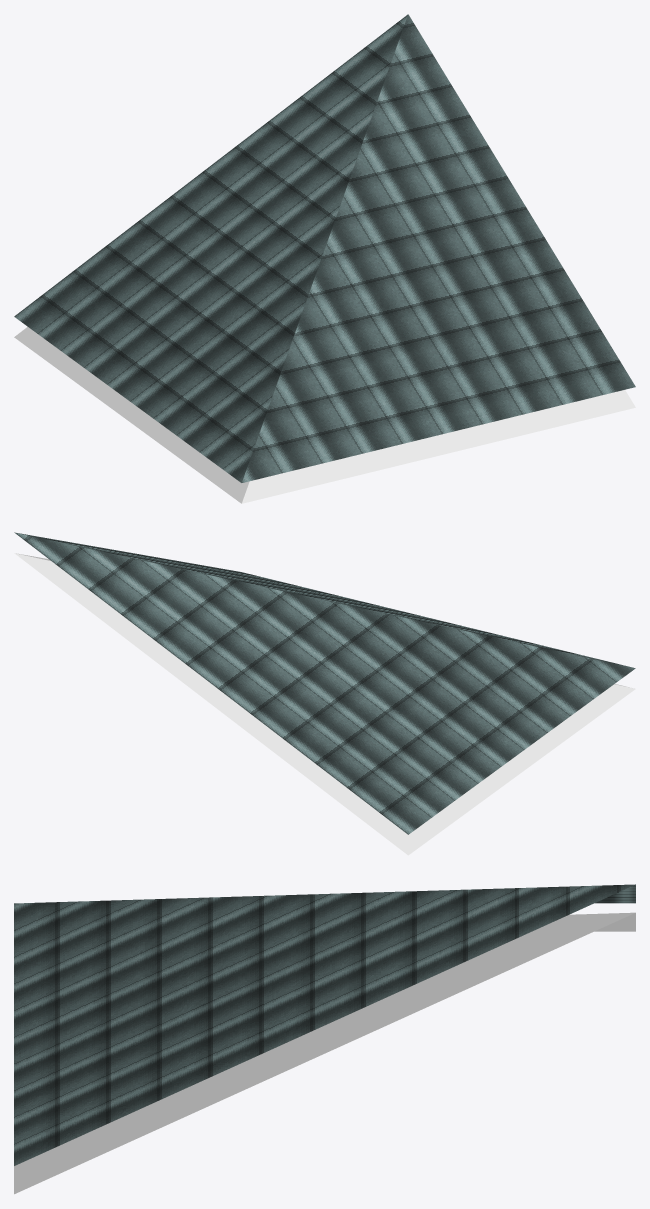
The model's file is roof_corner_mid_4x4.glb.
3 views of the same model, one above another, from view 1: azimuth 30°, elevation 25°; view 2: azimuth 150°, elevation 25°; view 3: azimuth 270°, elevation 25° (orthographic). The views are drawn at different scales.
Parts seen in each view (by area): view 1: roof_corner_mid_4x4; view 2: roof_corner_mid_4x4; view 3: roof_corner_mid_4x4.
Part boxes in pixels (x1,y1,x2,y2): roof_corner_mid_4x4: (14,14,635,503); roof_corner_mid_4x4: (14,532,635,855); roof_corner_mid_4x4: (14,884,635,1194).
Bounding box in the file's own units: 4 × 2.2 × 4.
2 materials, 1 textured.
